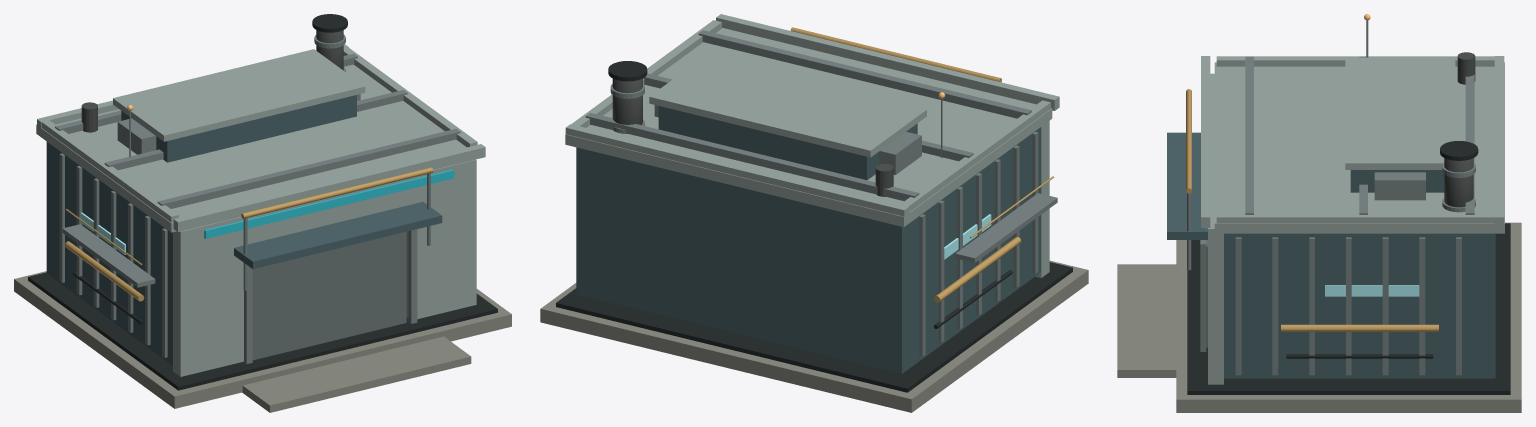
Rendered from war_factory.glb.
3 views of the same model, side by side, from view 1: azimuth 30°, elevation 25°; view 2: azimuth 150°, elevation 25°; view 3: azimuth 270°, elevation 25° (orthographic). The views are drawn at different scales.
Visible parts, largest first — view 1: factory_roof, door, monitor_roof, factory_body, factory_foundation, front_pier_left, foundation_deck, front_apron, front_lintel, front_pier_right, door_awning, side_ribs_left (+18 smaller); view 2: factory_body, factory_roof, monitor_roof, factory_foundation, foundation_deck, side_ribs_left, roof_monitor, roof_parapet_front, roof_parapet_back, roof_beam_1, roof_beam_3, roof_parapet_left (+10 smaller); view 3: factory_body, factory_roof, monitor_roof, factory_foundation, foundation_deck, front_apron, side_ribs_right, door_awning, roof_parapet_right, front_pier_right, roof_parapet_back, roof_parapet_left (+14 smaller).
Boxes of the visible parts, <box> form: factory_roof: <box>36,64,466,232</box>; door: <box>252,232,406,360</box>; monitor_roof: <box>113,49,365,141</box>; factory_body: <box>46,142,172,365</box>; factory_foundation: <box>14,271,511,408</box>; front_pier_left: <box>173,255,243,376</box>; foundation_deck: <box>28,272,497,390</box>; front_apron: <box>242,336,471,412</box>; front_lintel: <box>173,159,476,268</box>; front_pier_right: <box>406,197,476,319</box>; door_awning: <box>234,202,442,268</box>; side_ribs_left: <box>59,153,167,357</box>; factory_body: <box>576,127,1041,373</box>; factory_roof: <box>565,28,1052,227</box>; monitor_roof: <box>649,55,926,157</box>; factory_foundation: <box>540,260,1088,412</box>; foundation_deck: <box>556,262,1072,392</box>; side_ribs_left: <box>919,131,1038,356</box>; roof_monitor: <box>658,106,917,180</box>; roof_parapet_front: <box>716,14,1059,110</box>; roof_parapet_back: <box>565,124,909,216</box>; roof_beam_1: <box>698,30,1031,118</box>; roof_beam_3: <box>585,112,919,201</box>; roof_parapet_left: <box>896,100,1050,211</box>; factory_body: <box>1224,233,1495,378</box>; factory_roof: <box>1214,62,1504,233</box>; monitor_roof: <box>1345,57,1455,169</box>; factory_foundation: <box>1176,222,1521,412</box>; foundation_deck: <box>1187,223,1510,394</box>; front_apron: <box>1117,264,1176,377</box>; side_ribs_right: <box>1235,237,1461,375</box>; door_awning: <box>1167,132,1207,239</box>; roof_parapet_right: <box>1216,213,1502,223</box>; front_pier_right: <box>1208,266,1223,384</box>; roof_parapet_back: <box>1494,56,1504,226</box>; roof_parapet_left: <box>1216,56,1502,66</box>.
Size of what is drawn, in the model's own units: 11.55 by 7.38 by 11.
